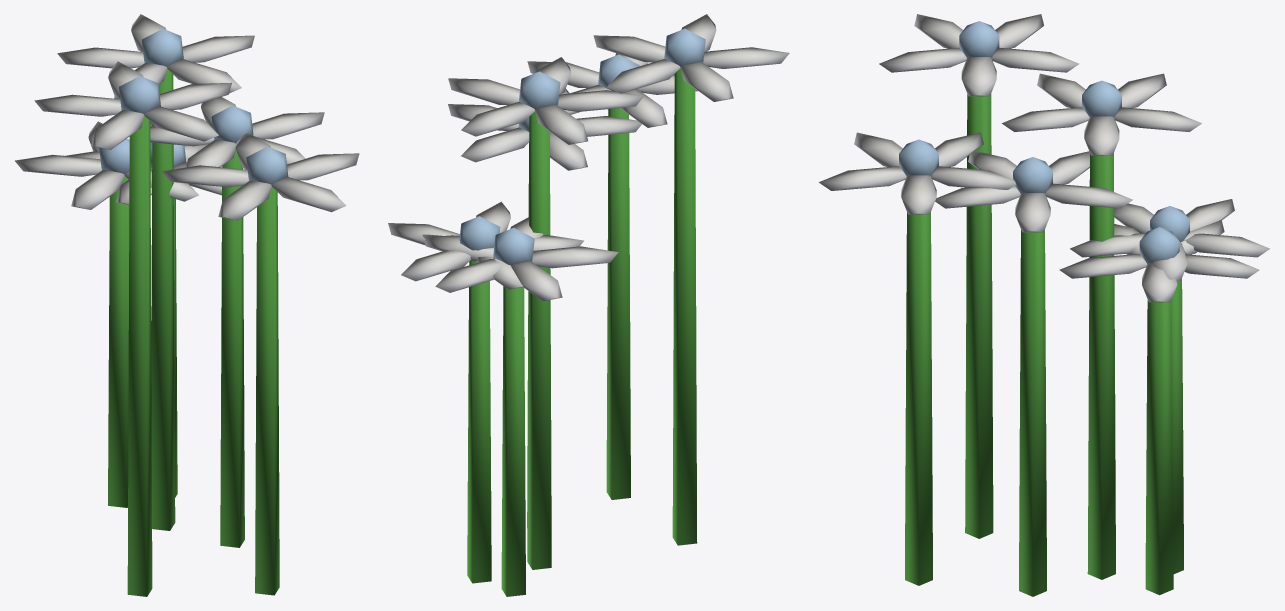
File: flowers_white.glb
The picture shows the model from 3 angles, left to right: view 1: azimuth 30°, elevation 25°; view 2: azimuth 150°, elevation 25°; view 3: azimuth 270°, elevation 25°; orthographic projection.
Parts seen in each view (by area): view 1: Flowers; view 2: Flowers; view 3: Flowers.
Part boxes in pixels (<box>): Flowers: <box>15,14,359,596</box>; Flowers: <box>388,14,789,596</box>; Flowers: <box>819,14,1269,596</box>.
Size of the model in its own units: 0.2788 by 0.4798 by 0.3838.
